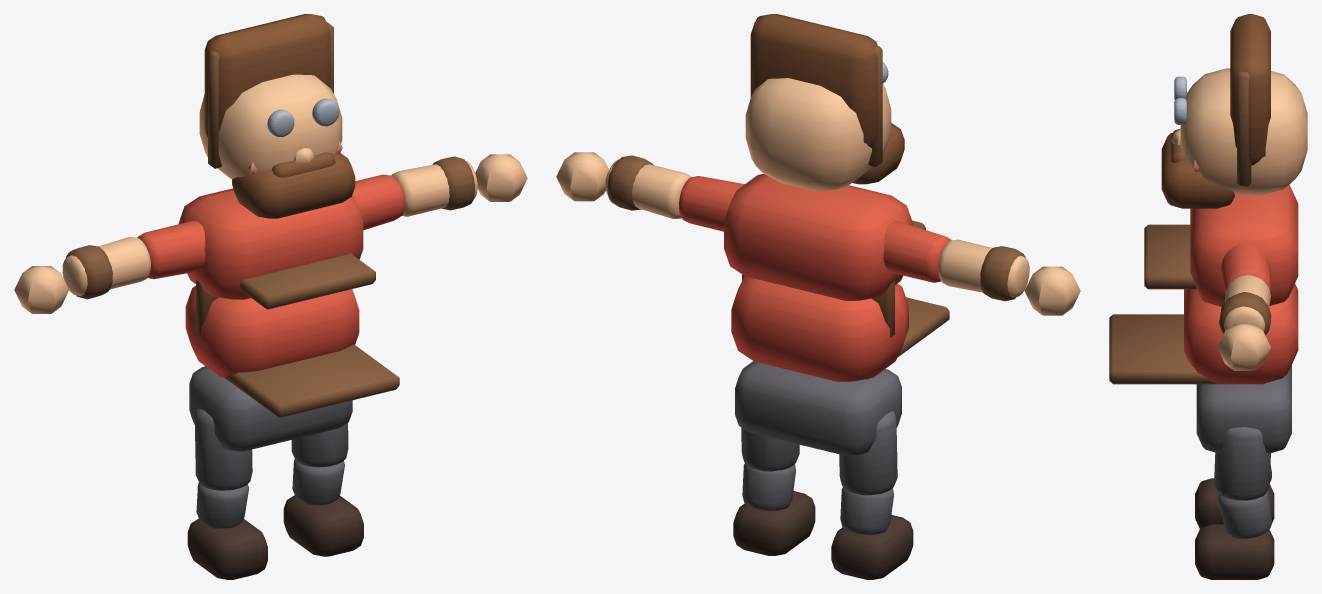
File: npc_smith.glb
The picture shows the model from 3 angles, left to right: view 1: azimuth 30°, elevation 25°; view 2: azimuth 150°, elevation 25°; view 3: azimuth 270°, elevation 25°; orthographic projection. The views are drawn at different scales.
Visible parts, largest first — view 1: chest__chest8, spine__belly7, head__head17, head__hair25, spine__apron30, hips__pelvis6, head__beard23, chest__bib29, foot.r__boot5, foot.l__boot2, upperleg.r__limb3, upperarm.r__limb13 (+12 smaller); view 2: chest__chest8, spine__belly7, head__head17, hips__pelvis6, head__hair25, foot.l__boot2, foot.r__boot5, upperleg.r__limb3, upperarm.r__limb13, lowerarm.r__limb14, upperarm.l__limb9, lowerarm.l__limb10 (+10 smaller); view 3: head__head17, chest__chest8, spine__belly7, spine__apron30, hips__pelvis6, head__hair25, foot.l__boot2, upperleg.l__limb0, chest__bib29, head__beard23, hand.l__hand12, lowerleg.l__limb1 (+7 smaller).
Boxes of the visible parts, left/top/right/bottom form: chest__chest8: left=178, top=188, right=363, bottom=299; spine__belly7: left=185, top=286, right=359, bottom=377; head__head17: left=199, top=74, right=342, bottom=179; head__hair25: left=204, top=14, right=330, bottom=137; spine__apron30: left=225, top=344, right=399, bottom=417; hips__pelvis6: left=189, top=366, right=352, bottom=451; head__beard23: left=232, top=153, right=355, bottom=218; chest__bib29: left=239, top=253, right=375, bottom=309; foot.r__boot5: left=187, top=518, right=267, bottom=579; foot.l__boot2: left=283, top=495, right=363, bottom=556; upperleg.r__limb3: left=194, top=408, right=252, bottom=490; upperarm.r__limb13: left=137, top=220, right=205, bottom=279; chest__chest8: left=724, top=174, right=912, bottom=300; spine__belly7: left=731, top=276, right=908, bottom=381; head__head17: left=745, top=78, right=891, bottom=190; hips__pelvis6: left=735, top=361, right=901, bottom=455; head__hair25: left=750, top=14, right=877, bottom=147; foot.l__boot2: left=733, top=491, right=815, bottom=555; foot.r__boot5: left=831, top=515, right=913, bottom=579; upperleg.r__limb3: left=839, top=411, right=897, bottom=495; upperarm.r__limb13: left=883, top=221, right=951, bottom=282; lowerarm.r__limb14: left=938, top=239, right=1029, bottom=297; upperarm.l__limb9: left=679, top=176, right=744, bottom=231; lowerarm.l__limb10: left=605, top=159, right=691, bottom=219; head__head17: left=1180, top=68, right=1307, bottom=195; chest__chest8: left=1190, top=184, right=1298, bottom=306; spine__belly7: left=1184, top=283, right=1298, bottom=384; spine__apron30: left=1109, top=314, right=1264, bottom=384; hips__pelvis6: left=1196, top=365, right=1291, bottom=453; head__hair25: left=1230, top=14, right=1270, bottom=165; foot.l__boot2: left=1195, top=524, right=1274, bottom=579; upperleg.l__limb0: left=1214, top=427, right=1270, bottom=500; chest__bib29: left=1144, top=224, right=1196, bottom=289; head__beard23: left=1161, top=133, right=1234, bottom=208; hand.l__hand12: left=1217, top=324, right=1270, bottom=370; lowerleg.l__limb1: left=1218, top=491, right=1271, bottom=538.
Bounding box in the file's own units: 1.78 × 1.79 × 0.625.
1 material, 1 textured.
